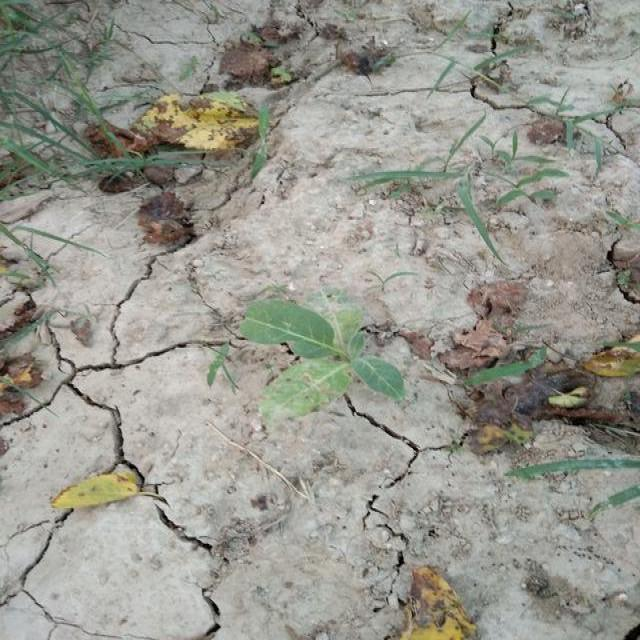crop: (252, 268, 403, 434)
